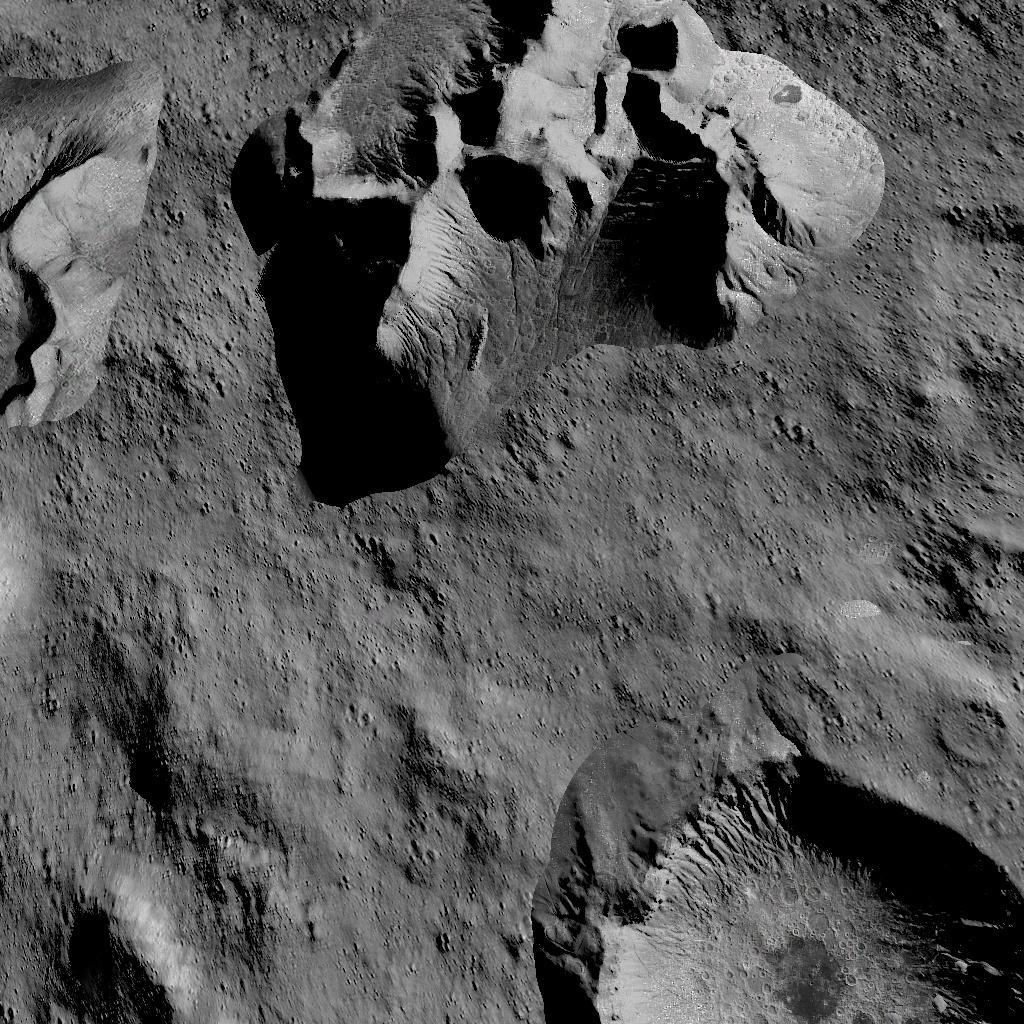Boulders: (230, 0, 888, 502), (0, 58, 170, 424)
Crater: (540, 738, 1024, 1022)
Plan surface: (220, 512, 918, 724), (248, 746, 518, 1022)
